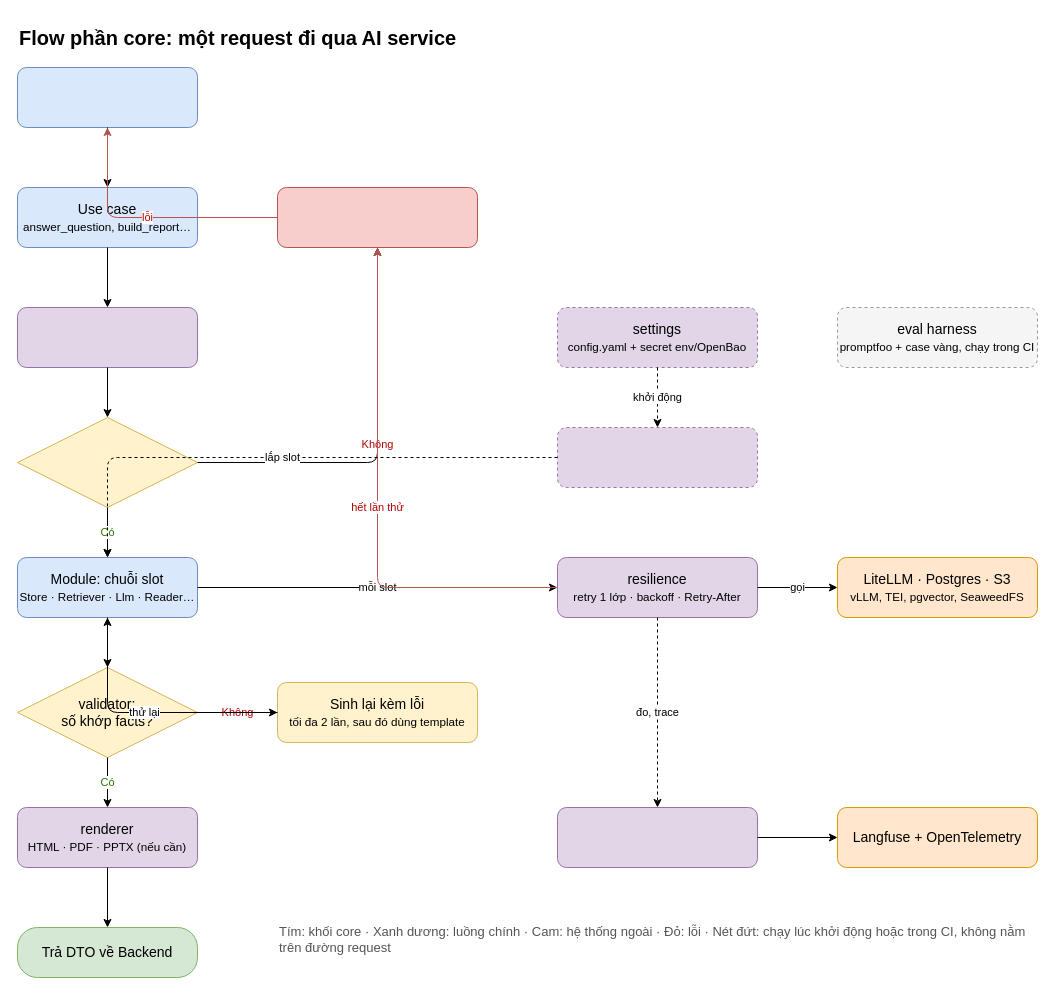
The diagram is 1055 pixels wide and 995 high, and some of its shapes have lost their labels. Here are the shapes that lost their labels. From the top down, the box of each, then its label:
(16, 66, 198, 128): Lớp HTTP X-API-Key · DTO theo version
(276, 186, 478, 248): AppError(code) tra CATALOGUE → {code, message}
(16, 306, 198, 368): safety Presidio che PII · LLM Guard
(16, 416, 198, 508): Input an toàn?
(556, 426, 758, 488): contracts + registry type: → class đúng Protocol
(556, 806, 758, 868): diagnostics Timer · đếm token · không log nội dung
